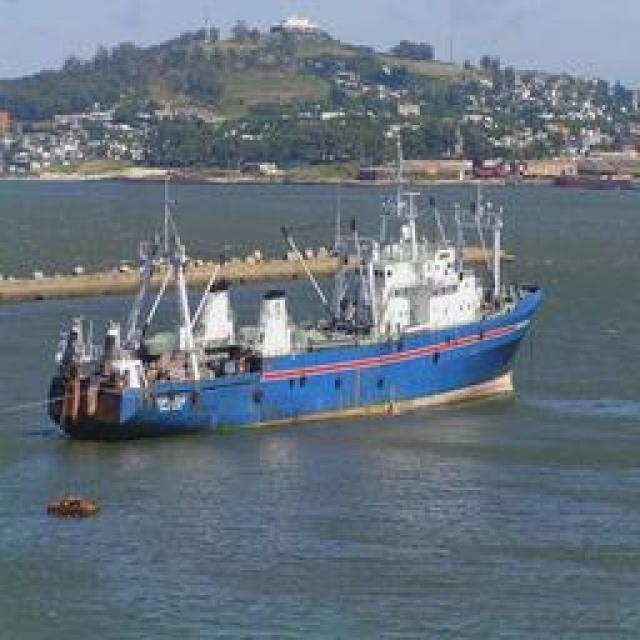ship2: (47, 183, 545, 444)
